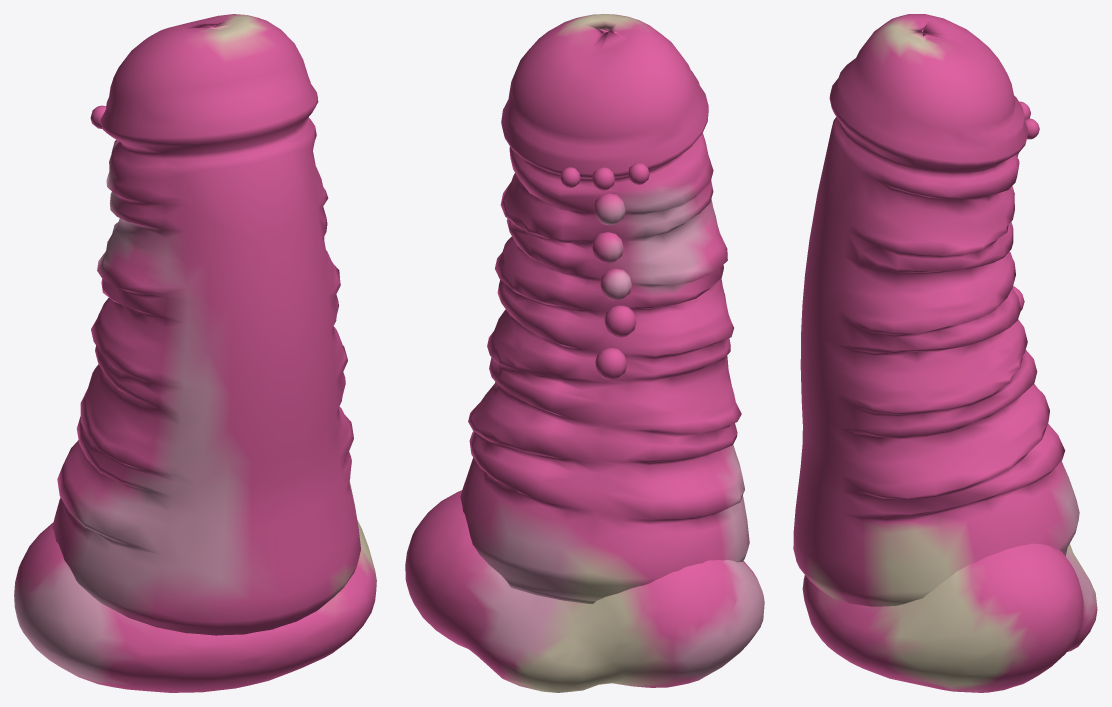
File: chess-rook-lod0.glb
The picture shows the model from 3 angles, left to right: view 1: azimuth 30°, elevation 25°; view 2: azimuth 150°, elevation 25°; view 3: azimuth 270°, elevation 25°; orthographic projection. The views are drawn at different scales.
Parts seen in each view (by area): view 1: rook; view 2: rook; view 3: rook.
Part boxes in pixels (<box>): rook: <box>14,14,376,692</box>; rook: <box>405,14,764,692</box>; rook: <box>793,14,1097,692</box>.
Size of the model in its own units: 0.5429 by 1 by 0.4509.
